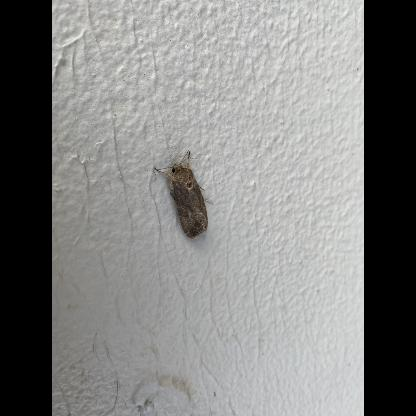Fall Armyworm Moth: (152, 149, 214, 241)
